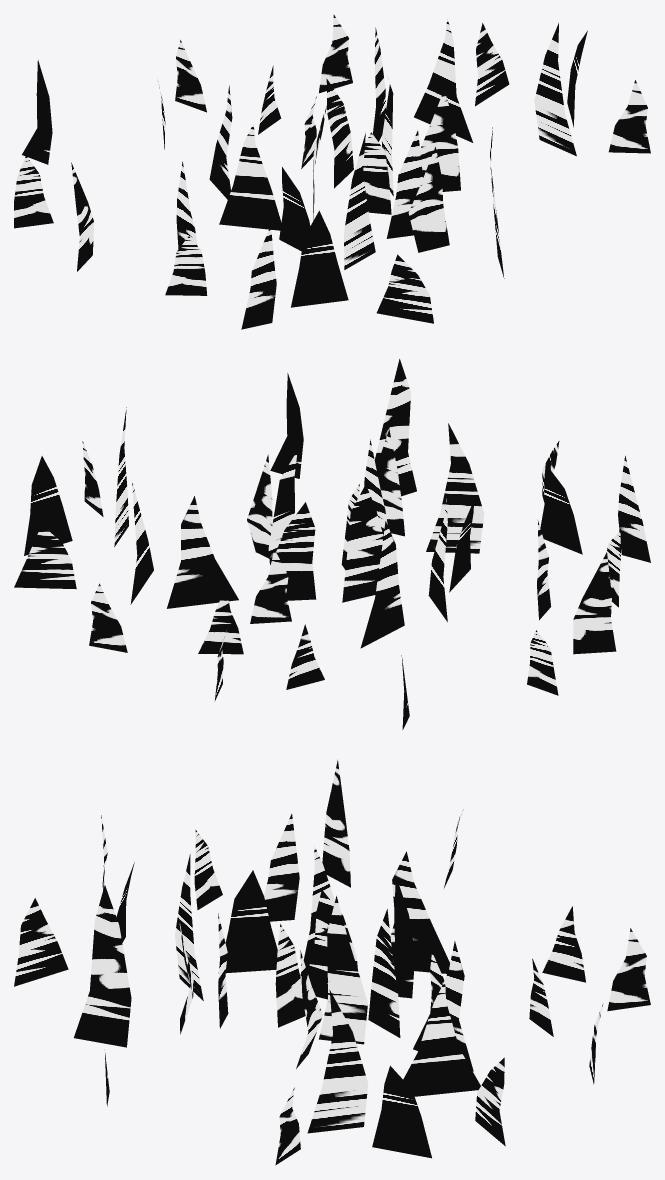
File: P_Seaweed1.obj
3 views of the same model, one above another, from view 1: azimuth 30°, elevation 25°; view 2: azimuth 150°, elevation 25°; view 3: azimuth 270°, elevation 25° (orthographic). The views are drawn at different scales.
Bounding box in the file's own units: 3.06 × 0.7548 × 2.8.
